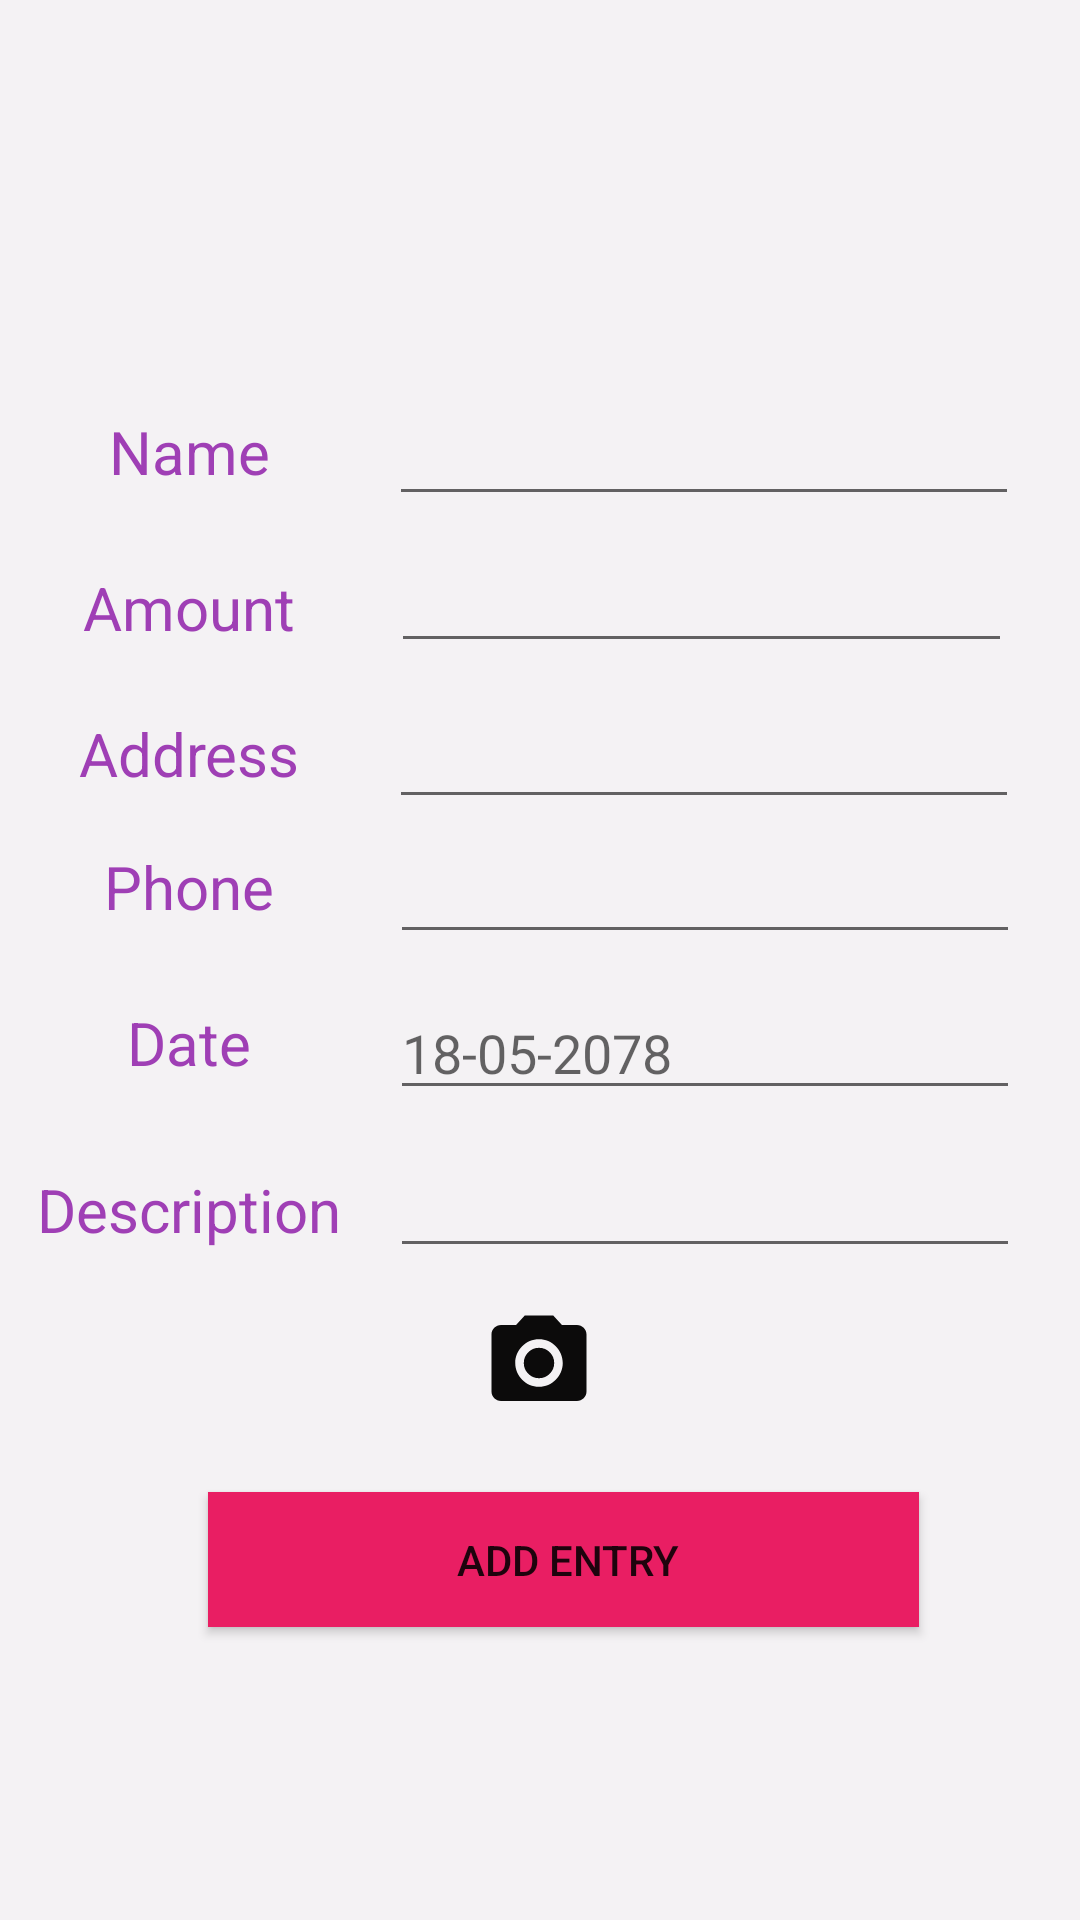

Named icons in this screenshot (1080×1920) and their bounding boxes, (x1, y1, x2, y2):
photo camera: (491, 1315, 587, 1401)
